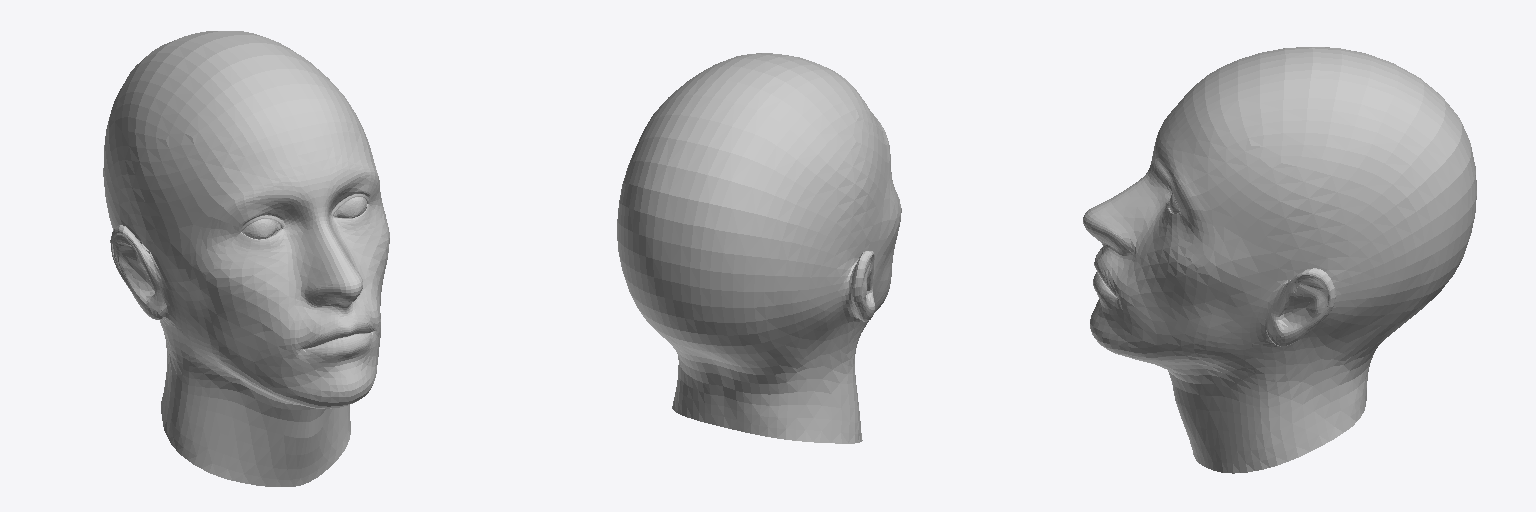
3 renders of one model, left to right at view 1: azimuth 30°, elevation 25°; view 2: azimuth 150°, elevation 25°; view 3: azimuth 270°, elevation 25°, orthographic.
Parts seen in each view (by area): view 1: FaceGen; view 2: FaceGen; view 3: FaceGen.
Part boxes in pixels (left/top/right/bottom): FaceGen: left=103, top=31, right=389, bottom=486; FaceGen: left=617, top=53, right=901, bottom=443; FaceGen: left=1083, top=47, right=1476, bottom=473.
Bounding box in the file's own units: 179 × 283 × 254.